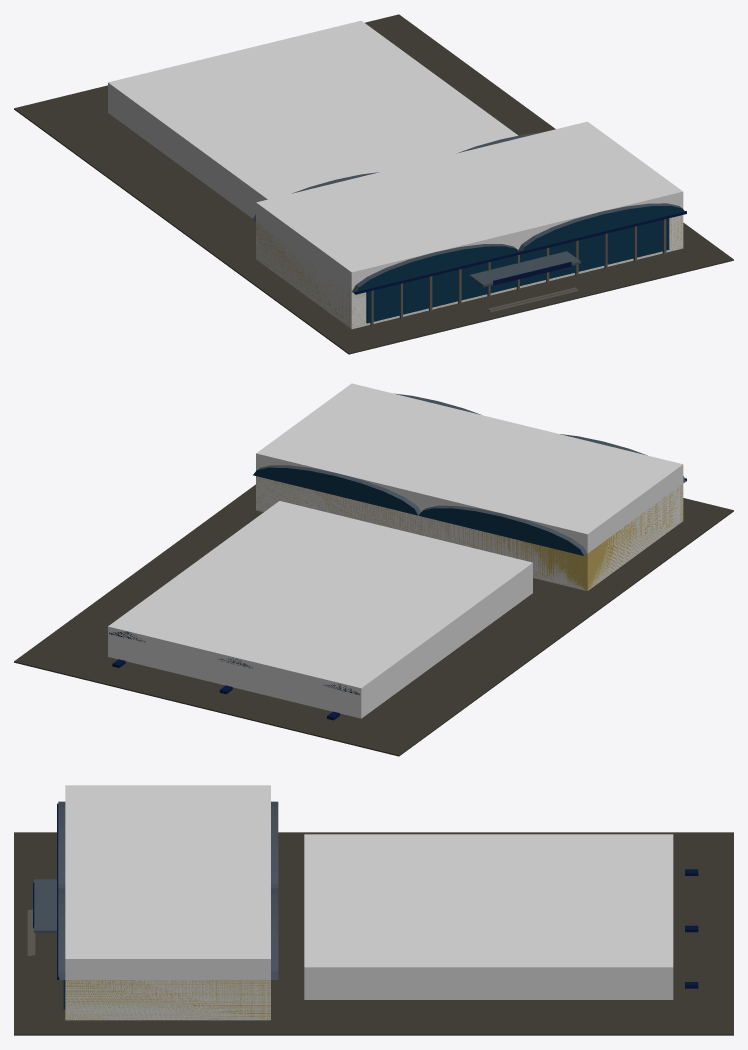
The model's file is B49_bus_terminus.glb.
The picture shows the model from 3 angles, top to bottom: view 1: azimuth 30°, elevation 25°; view 2: azimuth 150°, elevation 25°; view 3: azimuth 270°, elevation 25°; orthographic projection. The views are drawn at different scales.
Visible parts, largest first — view 1: LOD0, COL_Platforms, COL_Main; view 2: COL_Platforms, LOD0, COL_Main; view 3: COL_Platforms, LOD0, COL_Main.
Part boxes in pixels (box(x1,y1,x2,y2)): LOD0: box(14, 14, 733, 354); COL_Platforms: box(108, 20, 517, 218); COL_Main: box(256, 121, 683, 329); COL_Platforms: box(108, 501, 532, 718); LOD0: box(14, 393, 733, 756); COL_Main: box(256, 383, 683, 590); COL_Platforms: box(304, 834, 673, 999); LOD0: box(14, 801, 733, 1035); COL_Main: box(65, 785, 270, 1020).
Size of what is drawn, in the model's own units: 79 by 11.4 by 119.
